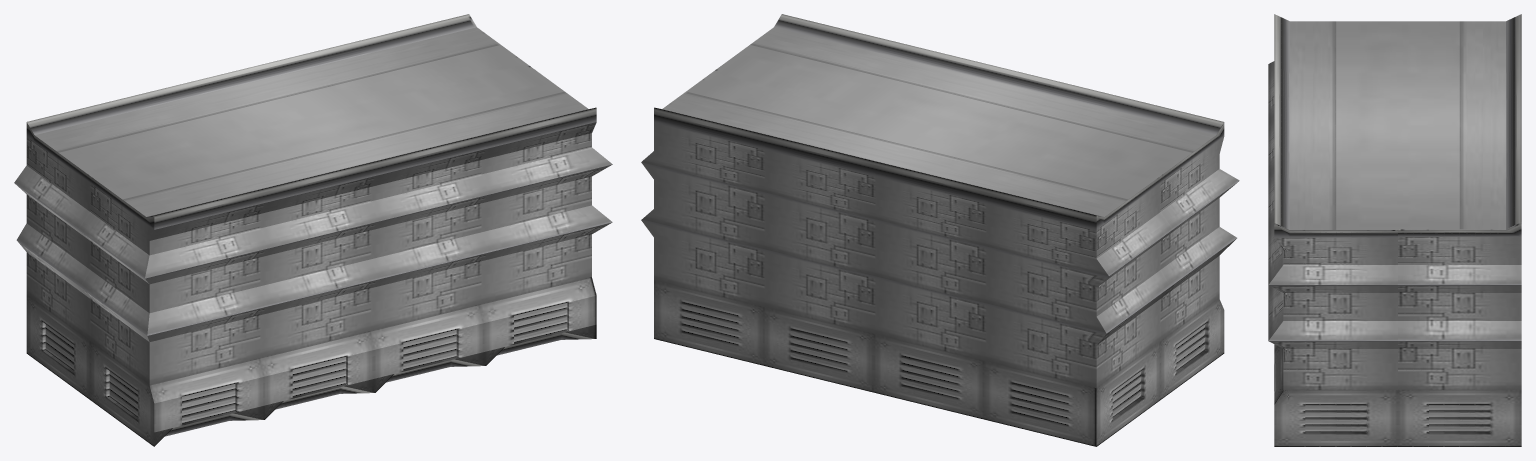
File: metallic_wall03.fbx
The picture shows the model from 3 angles, left to right: view 1: azimuth 30°, elevation 25°; view 2: azimuth 150°, elevation 25°; view 3: azimuth 270°, elevation 25°; orthographic projection. The views are drawn at different scales.
Parts seen in each view (by area): view 1: Cube; view 2: Cube; view 3: Cube.
Boxes of the visible parts, bbox=[...] form: Cube: bbox=[14, 14, 612, 446]; Cube: bbox=[641, 14, 1239, 446]; Cube: bbox=[1268, 14, 1521, 446].
Size of the model in its own units: 4231 by 2000 by 2048.
1 material, 1 textured.
